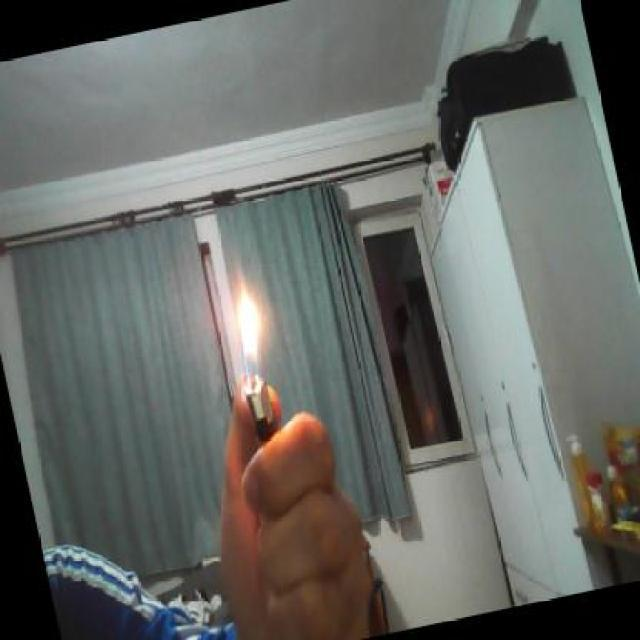Fire: (226, 253, 276, 402)
